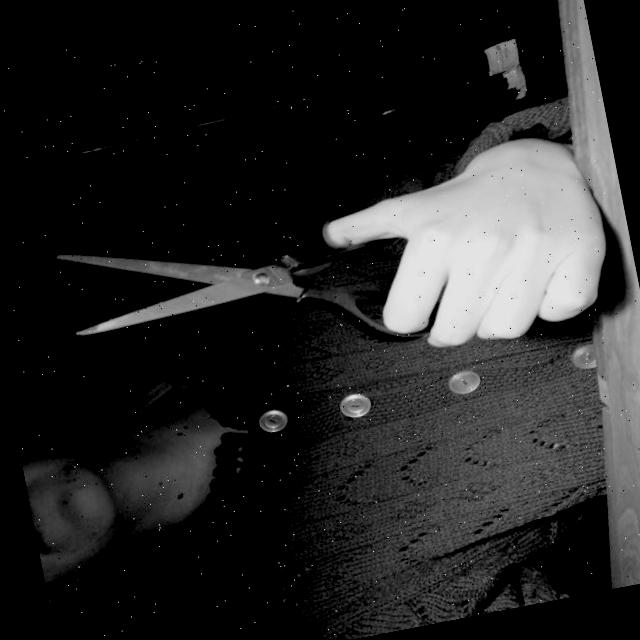scissors: (50, 178, 458, 406)
